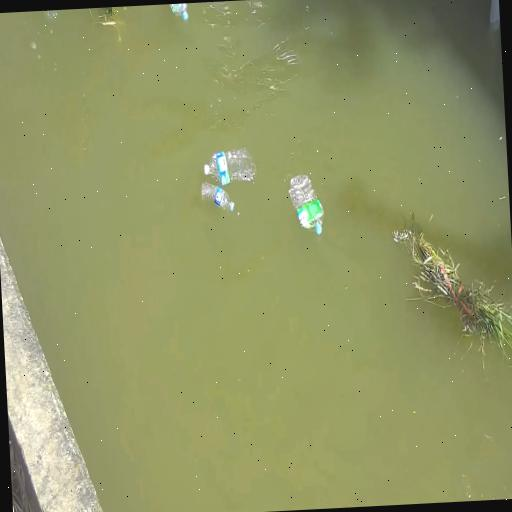plastic: (287, 170, 329, 238), (203, 138, 256, 186), (200, 178, 236, 214), (168, 3, 192, 22)
twig: (408, 219, 508, 344)
